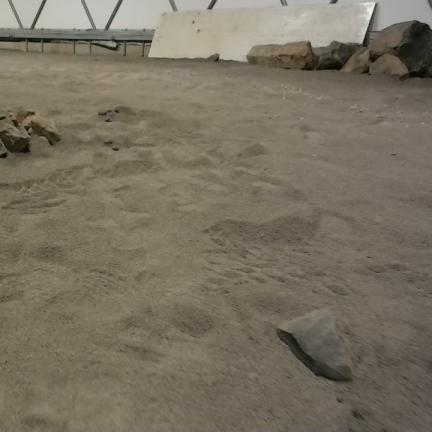Rock: (277, 309, 352, 380), (369, 21, 431, 76), (247, 41, 317, 70), (317, 41, 359, 70), (27, 116, 61, 145), (369, 54, 408, 76), (0, 125, 30, 152), (341, 48, 371, 73), (17, 106, 35, 122), (8, 111, 19, 126), (312, 47, 326, 57), (0, 140, 7, 158), (207, 54, 219, 61), (104, 139, 113, 145), (99, 110, 106, 115), (0, 113, 5, 120), (112, 147, 119, 151), (105, 118, 112, 122)
